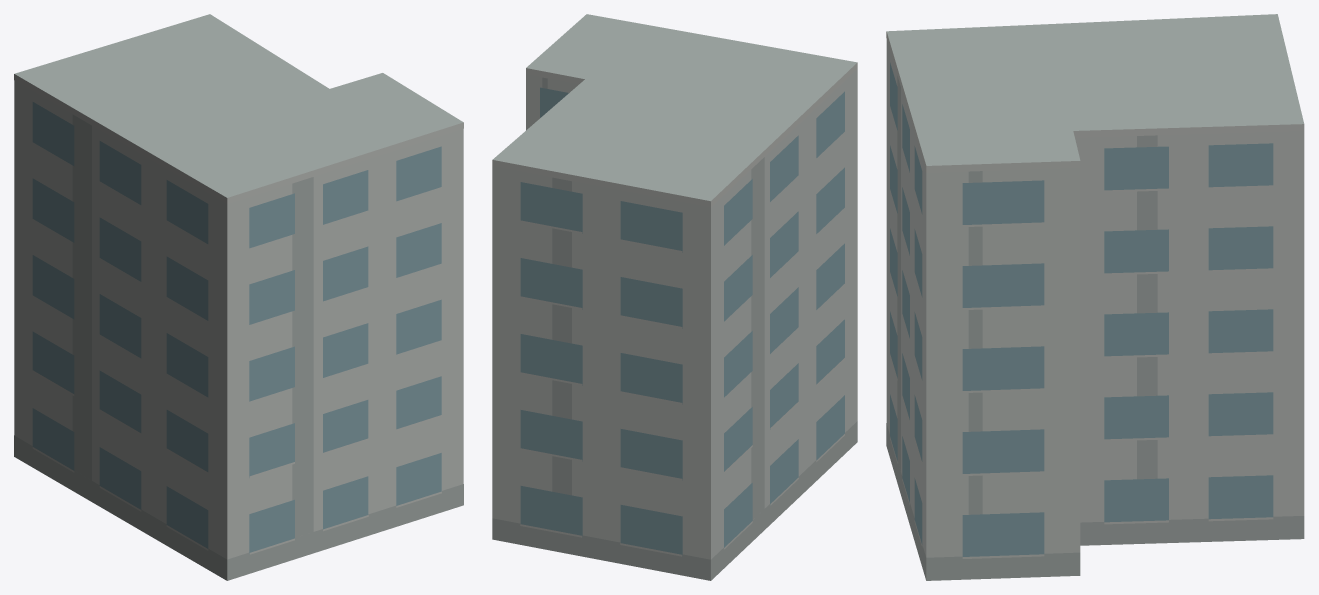
The model's file is survey-upis-32829030.glb.
The picture shows the model from 3 angles, left to right: view 1: azimuth 30°, elevation 25°; view 2: azimuth 150°, elevation 25°; view 3: azimuth 270°, elevation 25°; orthographic projection. The views are drawn at different scales.
Visible parts, largest first — view 1: survey-upis-32829030.tmp; view 2: survey-upis-32829030.tmp; view 3: survey-upis-32829030.tmp.
Boxes of the visible parts, bbox=[...] form: survey-upis-32829030.tmp: bbox=[14, 14, 463, 580]; survey-upis-32829030.tmp: bbox=[492, 14, 857, 580]; survey-upis-32829030.tmp: bbox=[886, 14, 1304, 580].
Size of the model in its own units: 11.4 by 14.5 by 13.24.
